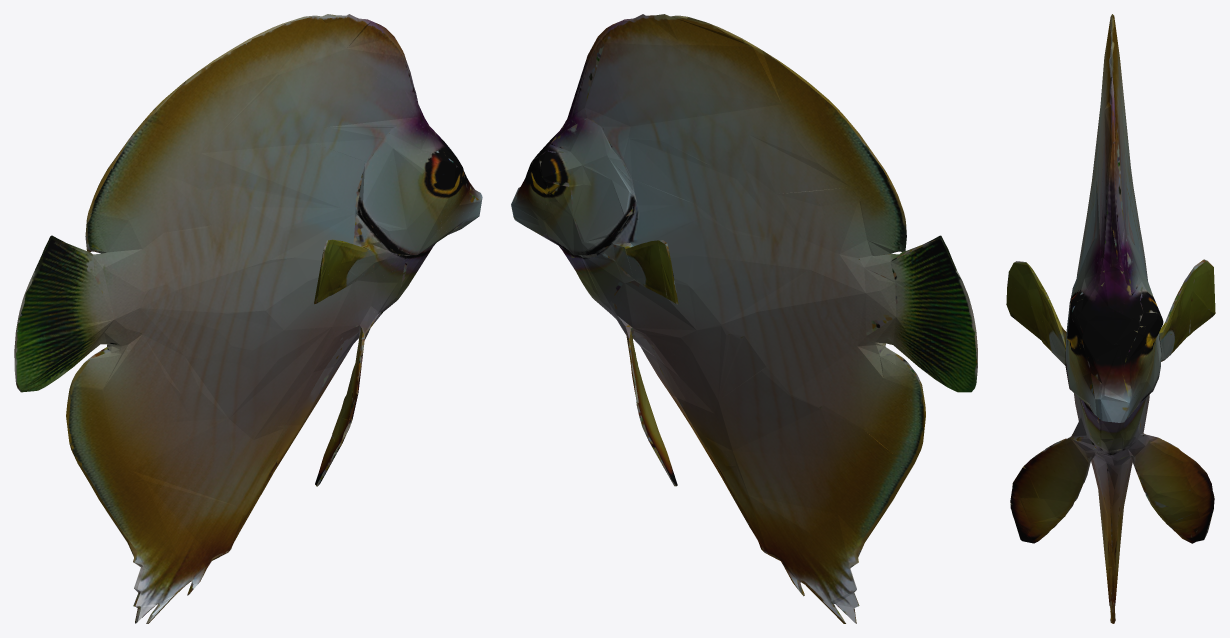
The model's file is fish_0053_smpl23_resized.glb.
The picture shows the model from 3 angles, left to right: view 1: azimuth 30°, elevation 25°; view 2: azimuth 150°, elevation 25°; view 3: azimuth 270°, elevation 25°; orthographic projection. The views are drawn at different scales.
Visible parts, largest first — view 1: world; view 2: world; view 3: world.
Part boxes in pixels (<box>): world: <box>14,14,482,623</box>; world: <box>511,14,977,623</box>; world: <box>1006,14,1215,623</box>.
Size of the model in its own units: 1.7 by 1.99 by 0.5616.
Materials: 1 (1 with a texture image).
